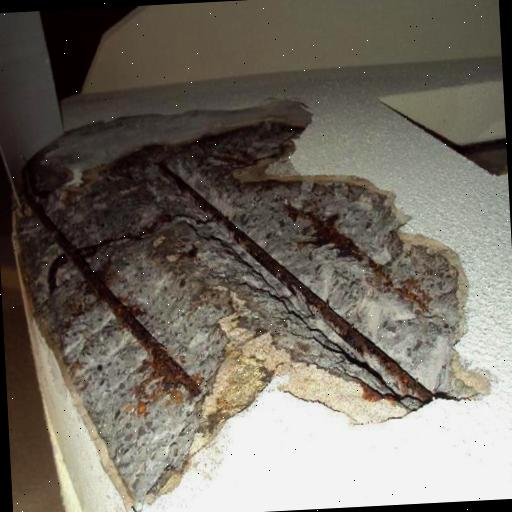spalling: (14, 96, 494, 509)
